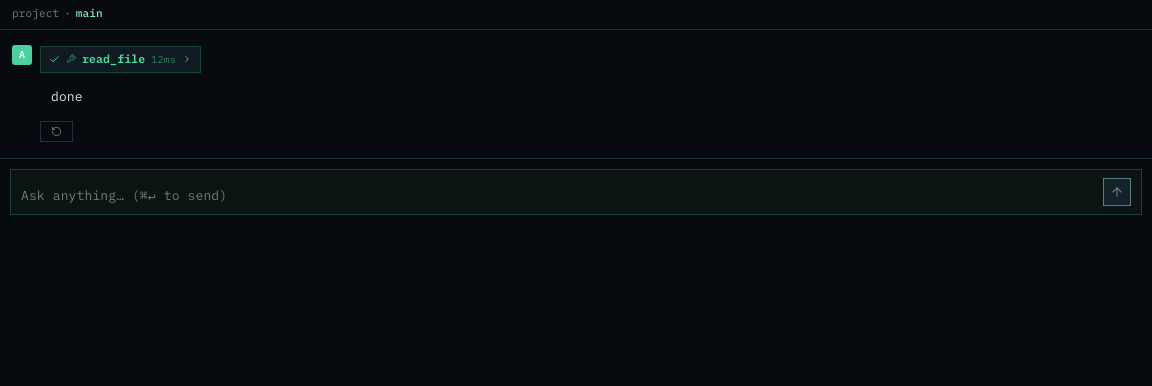
Test: AIChat interactions › ToolCallDetails_ShownAndToggledExpanded
Click the text "read_file" at (114, 59), box [82,50,145,68]
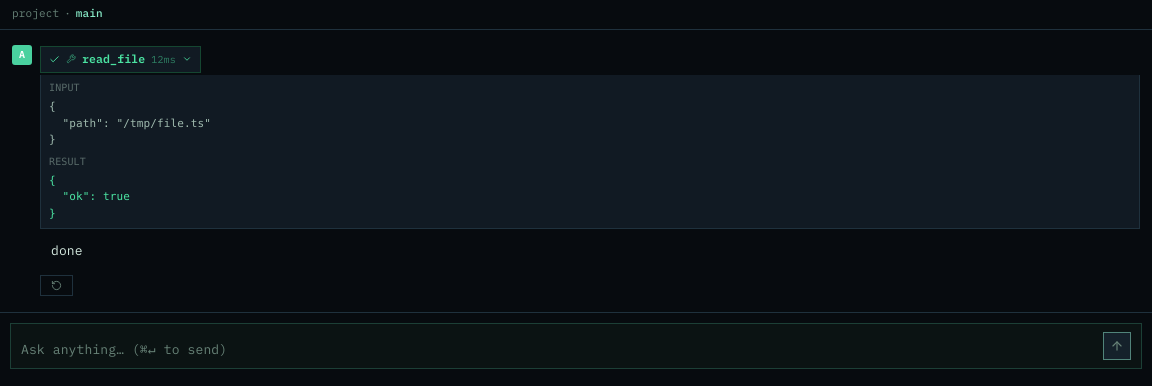
Now the text "INPUT" is shown, box [49,83,80,94]
Now the text "{ \"path\": \"/tmp/file.ts\" }" is shown, box [49,100,211,146]
Now the text "RESULT" is shown, box [49,157,86,168]
